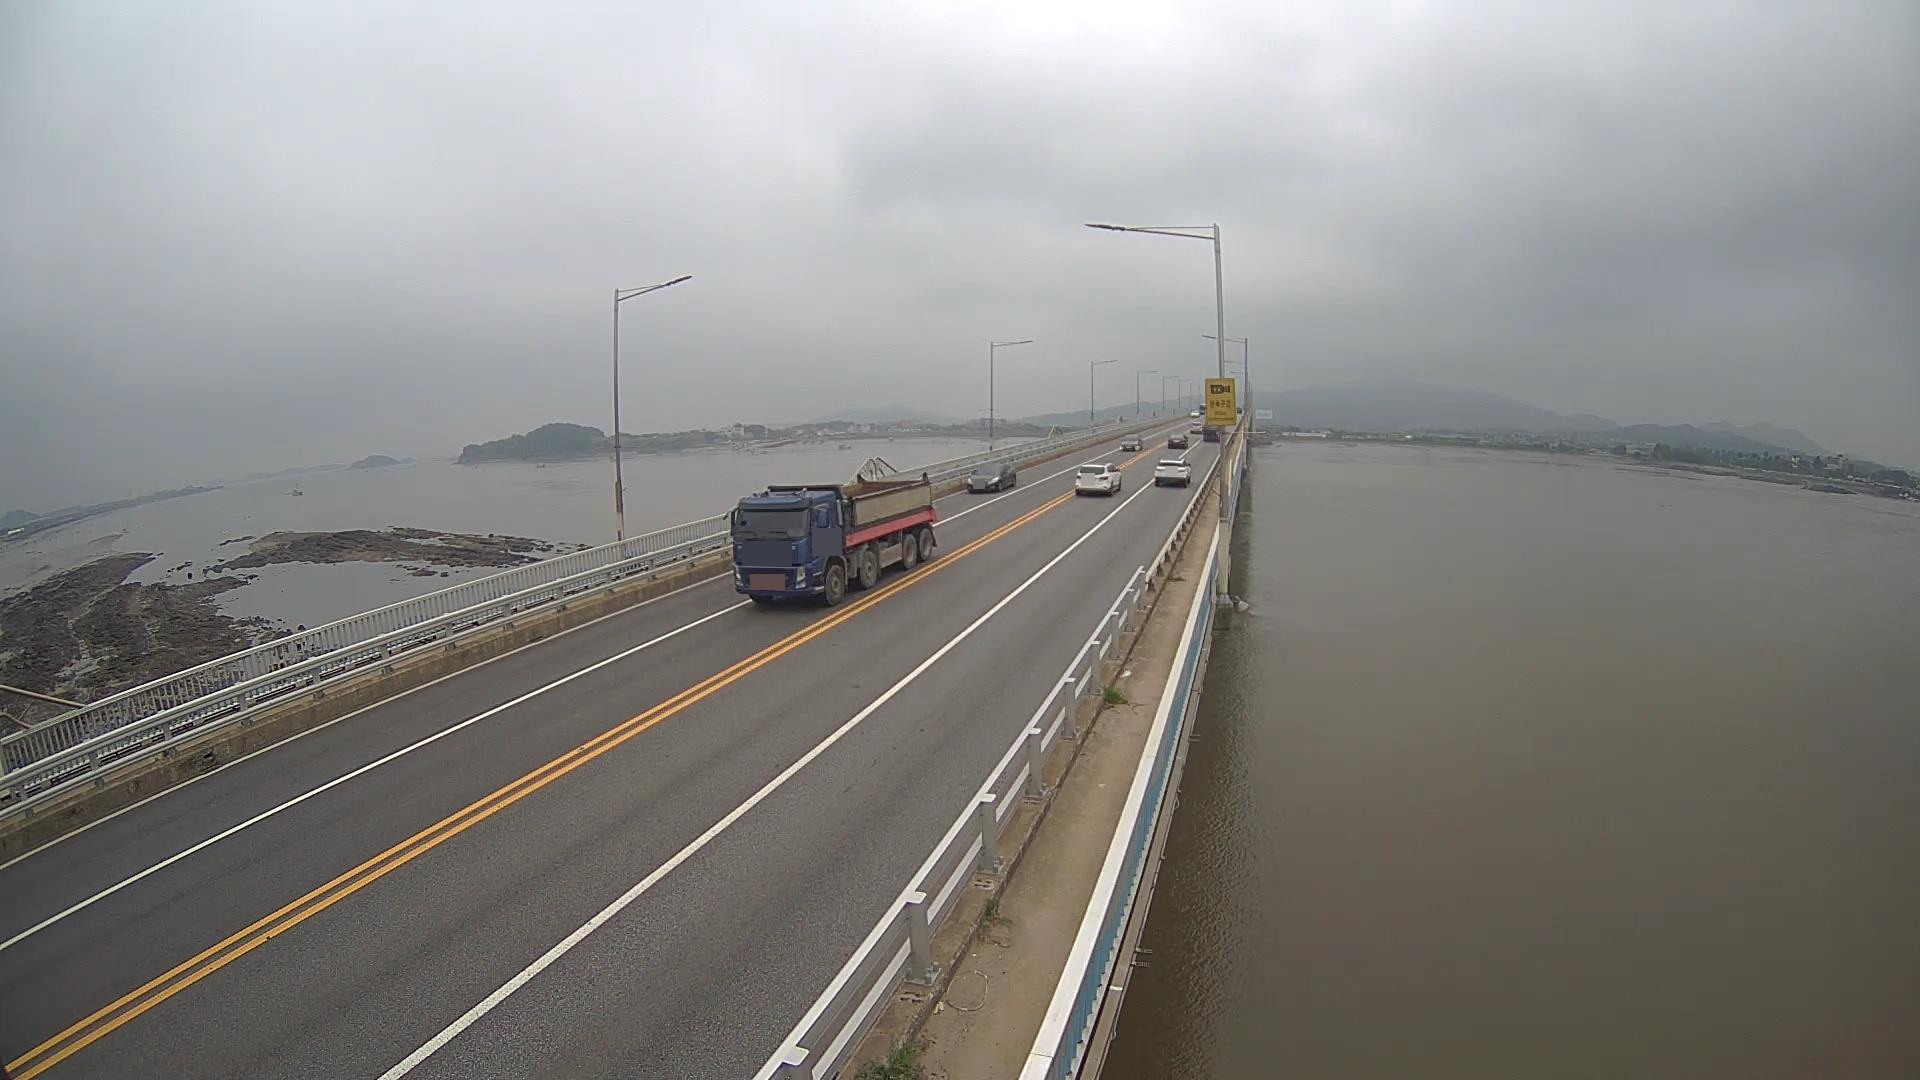정상차량: (721, 470, 939, 607)
